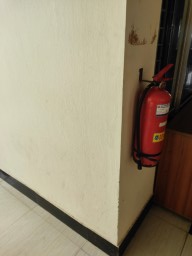fire_extinguisher: (48, 23, 128, 80), (61, 25, 128, 80)
